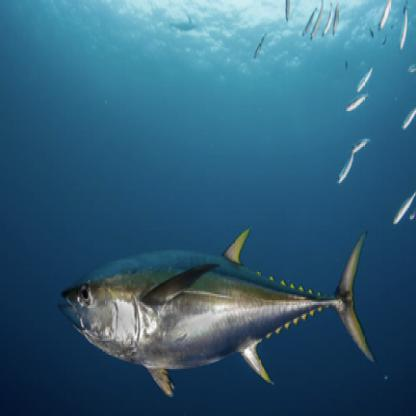tuna: (47, 228, 384, 408)
